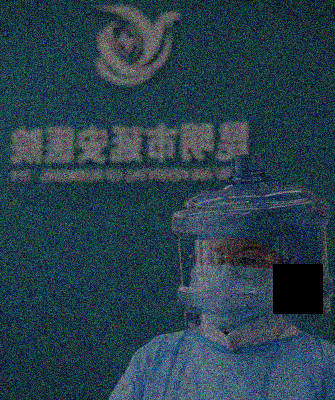with_mask: (190, 241, 279, 334)
